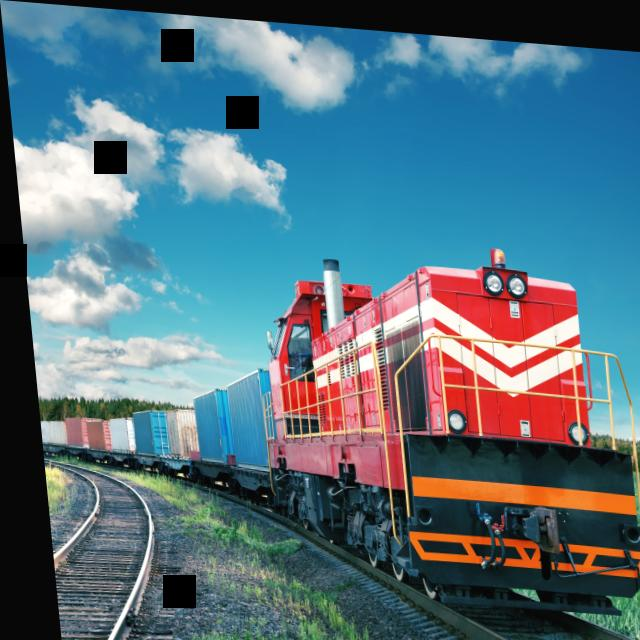container: (217, 360, 270, 470), (183, 381, 225, 465), (156, 405, 192, 459), (123, 405, 160, 457), (98, 413, 127, 453)
flatcar: (217, 460, 266, 504), (179, 456, 220, 485), (150, 453, 184, 479), (122, 451, 153, 472), (100, 449, 124, 467), (76, 448, 102, 464), (34, 444, 58, 457), (56, 446, 77, 459)
locomotive: (229, 211, 640, 639)
